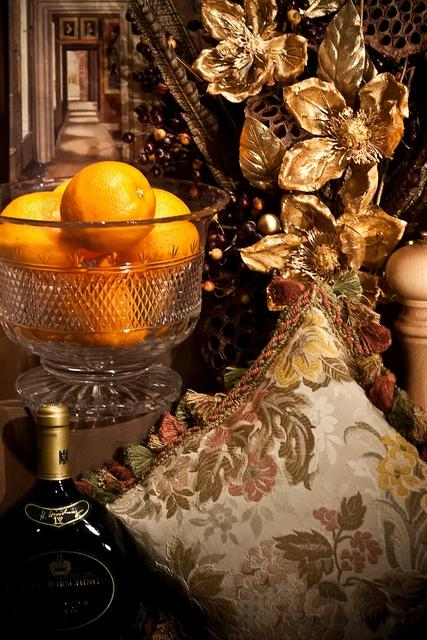orange: (60, 161, 155, 253), (0, 191, 105, 267), (117, 220, 200, 264), (151, 188, 191, 218), (52, 177, 72, 193), (19, 326, 37, 342), (155, 326, 170, 338)
